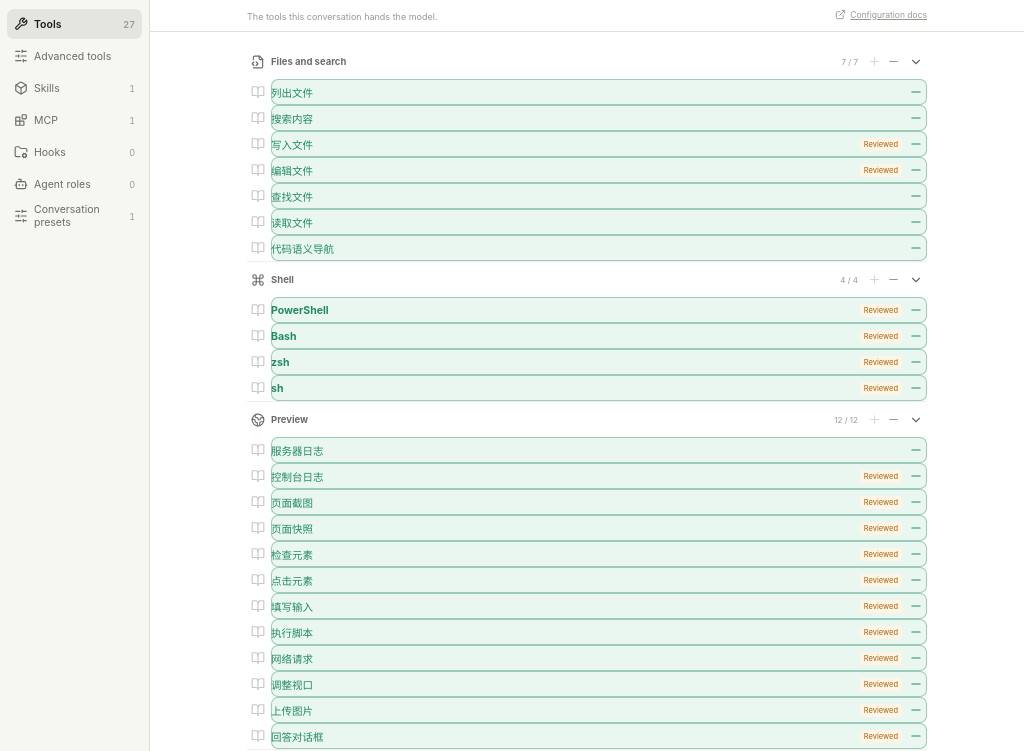
Test: ConversationSettings › shows a localized fallback for a blank persisted preset name
Click the button "Conversation presets 1" at x=74, y=216, box [7,201,142,231]
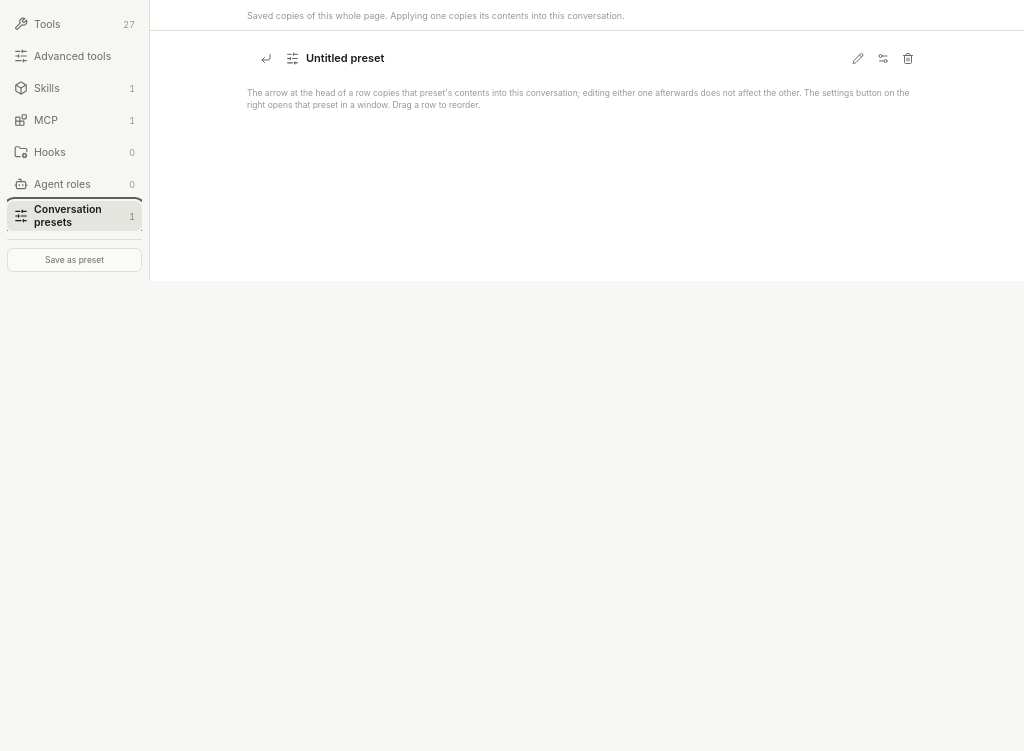
Expected: the text "Untitled preset" is shown, [306,51,384,65]
